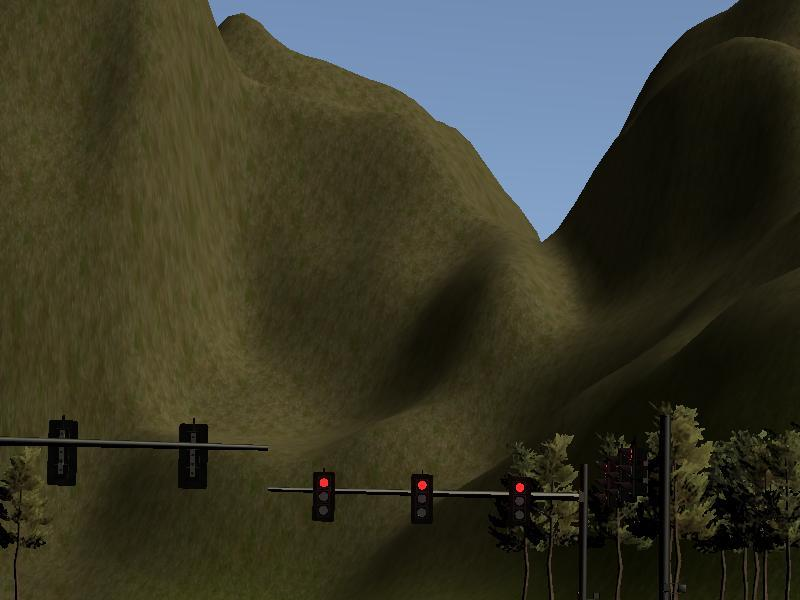Red: (313, 472, 334, 521), (412, 475, 432, 523), (509, 479, 527, 532)
